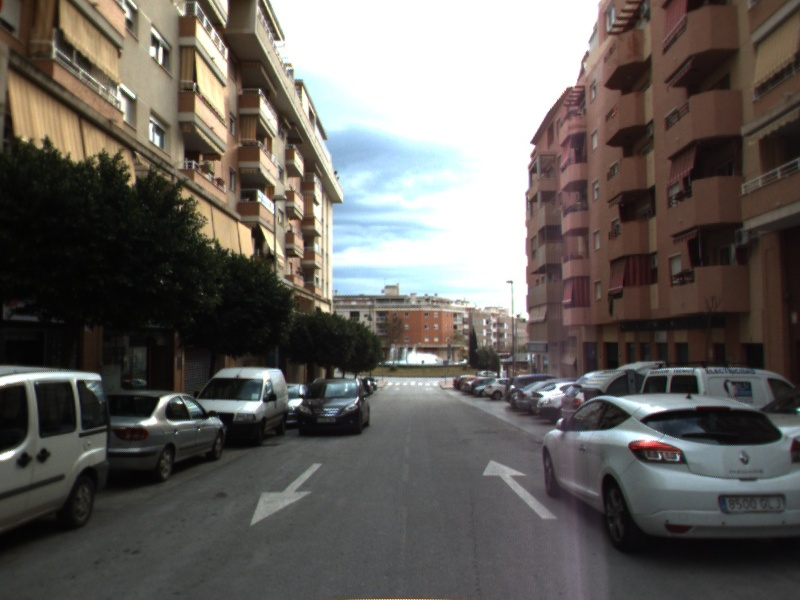STRAIGHT: (481, 458, 559, 521)
